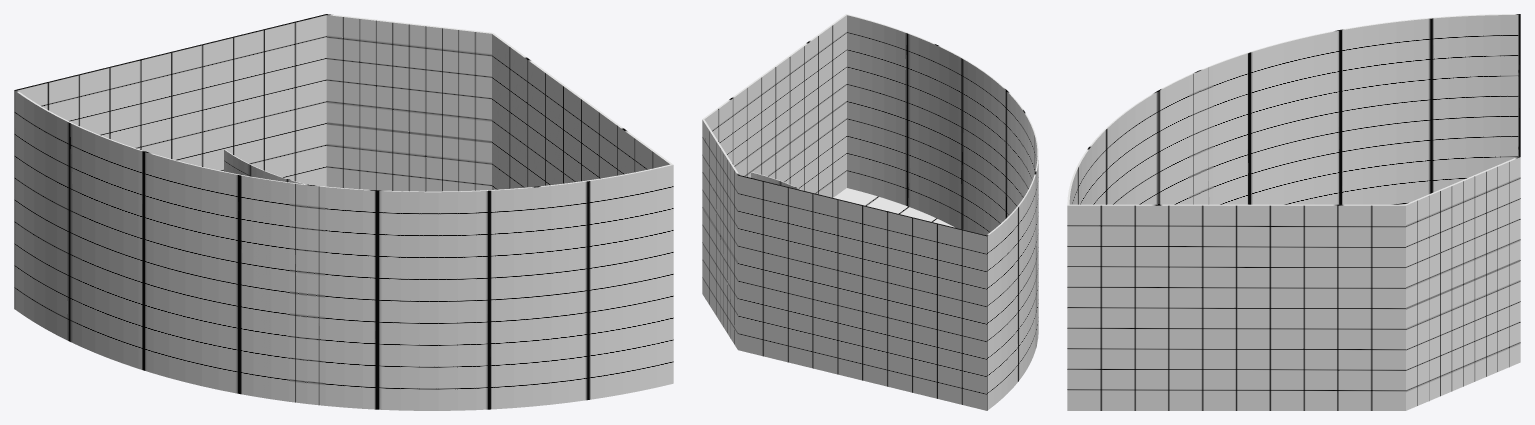
File: Reageerbuismand.glb
3 views of the same model, side by side, from view 1: azimuth 30°, elevation 25°; view 2: azimuth 150°, elevation 25°; view 3: azimuth 270°, elevation 25° (orthographic). The views are drawn at different scales.
Parts seen in each view (by area): view 1: Cube, Cube.001; view 2: Cube; view 3: Cube.
Boxes of the visible parts, <box> form: Cube: <box>14,14,673,410</box>; Cube.001: <box>224,149,306,184</box>; Cube: <box>702,14,1038,410</box>; Cube: <box>1067,14,1520,410</box>.
Size of the model in its own units: 2 by 1 by 2.
Materials: 1 (1 with a texture image).
